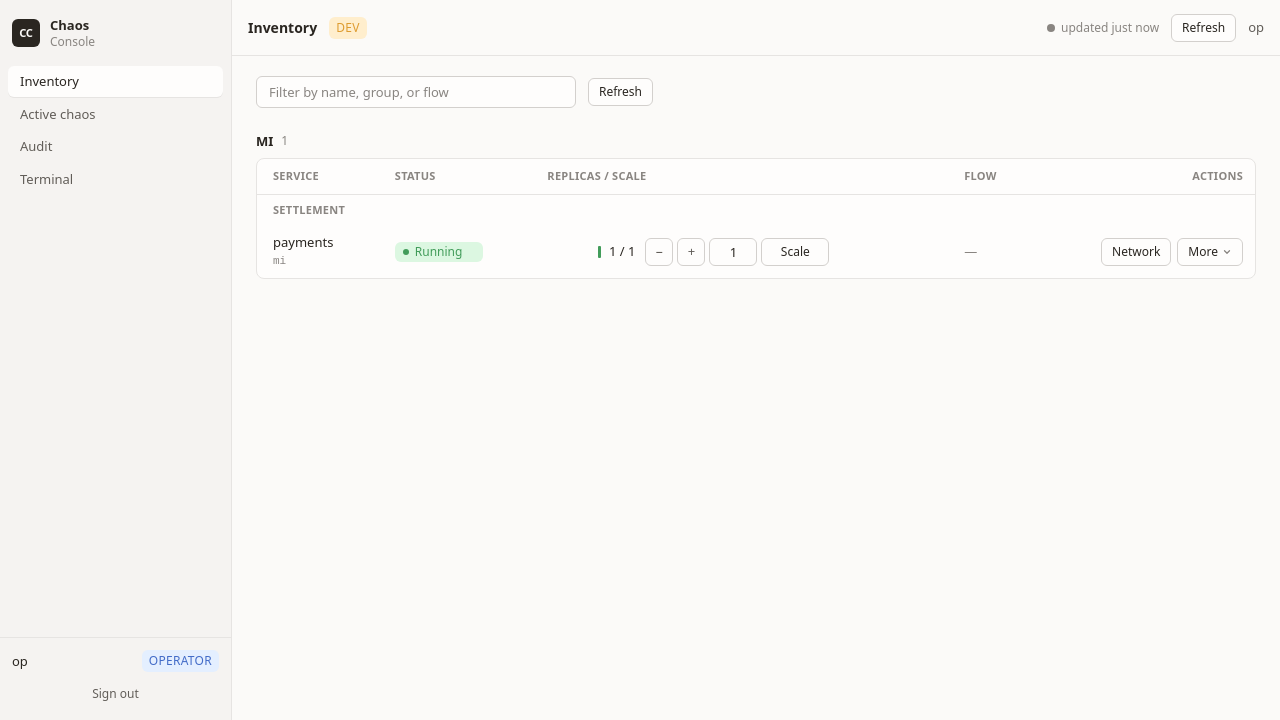
Test: <Console/> (authed operator) › opens the action drawer via More -> Open actions
Click the button "More": (1210, 252) [1177, 238, 1243, 266]
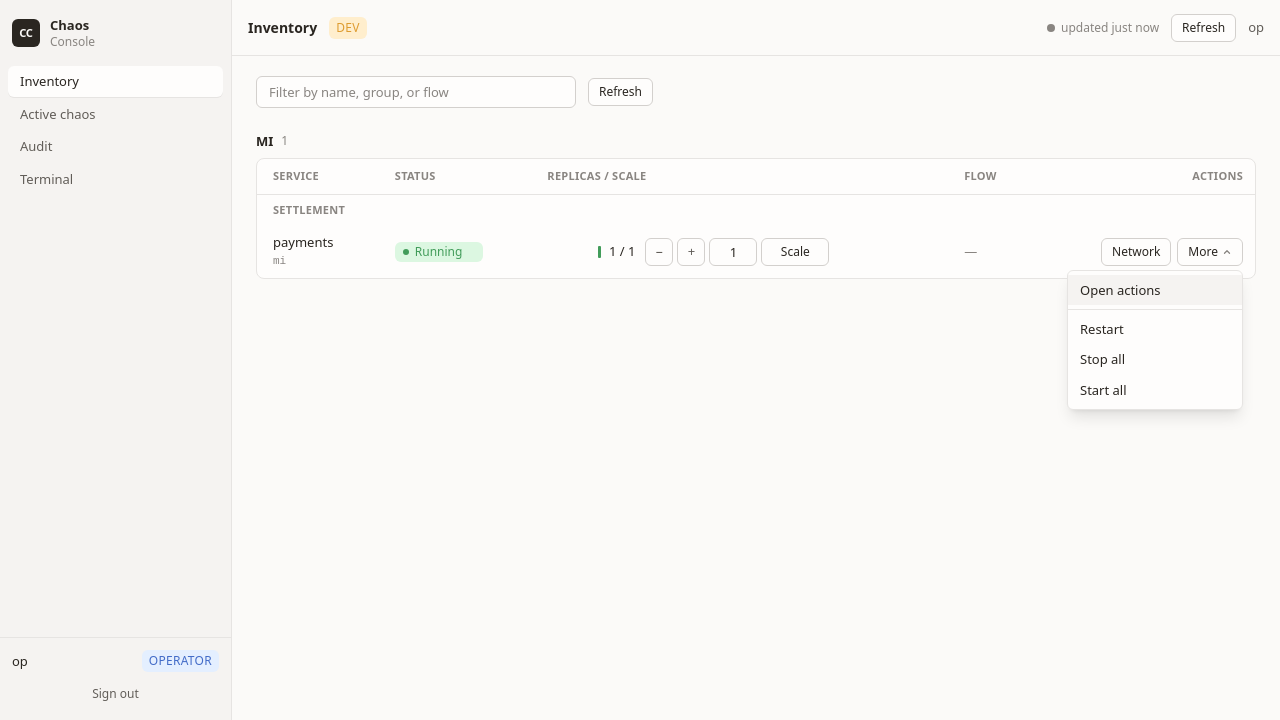
Click the menu item "Open actions": (1155, 290) [1068, 275, 1242, 305]
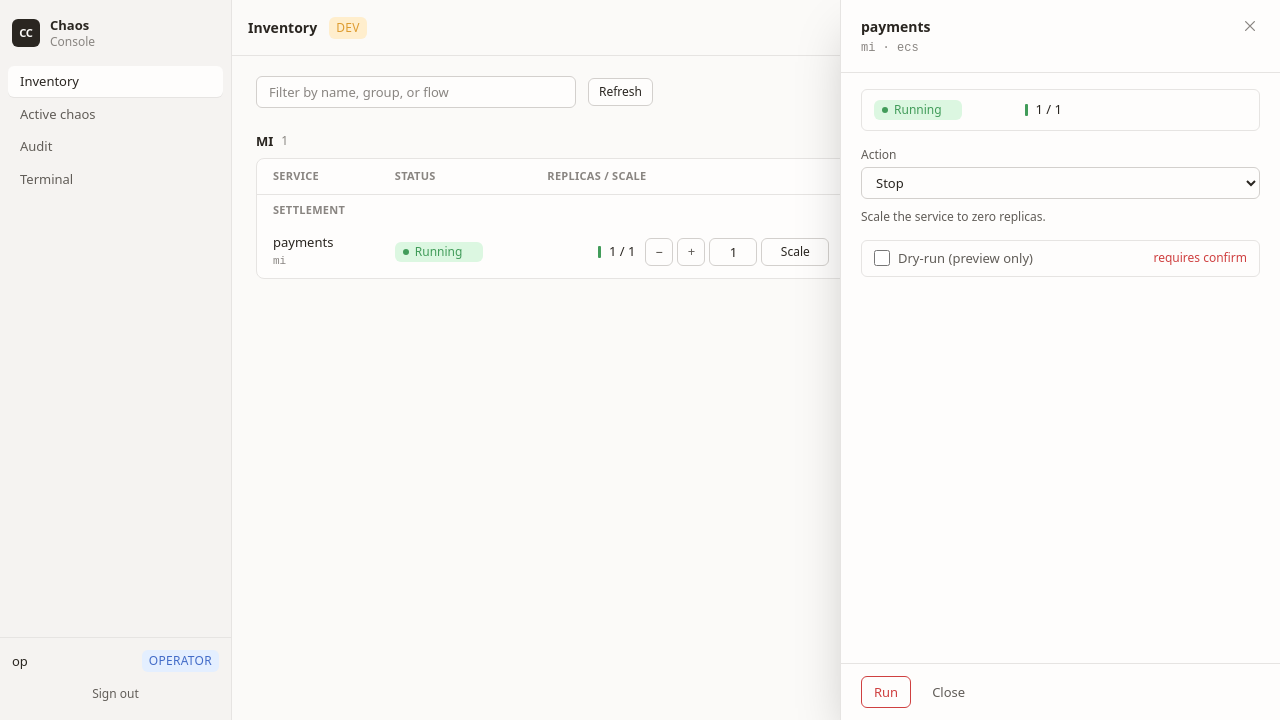
Expected: the dropdown labelled "Action" is shown, [861, 167, 1260, 199]
